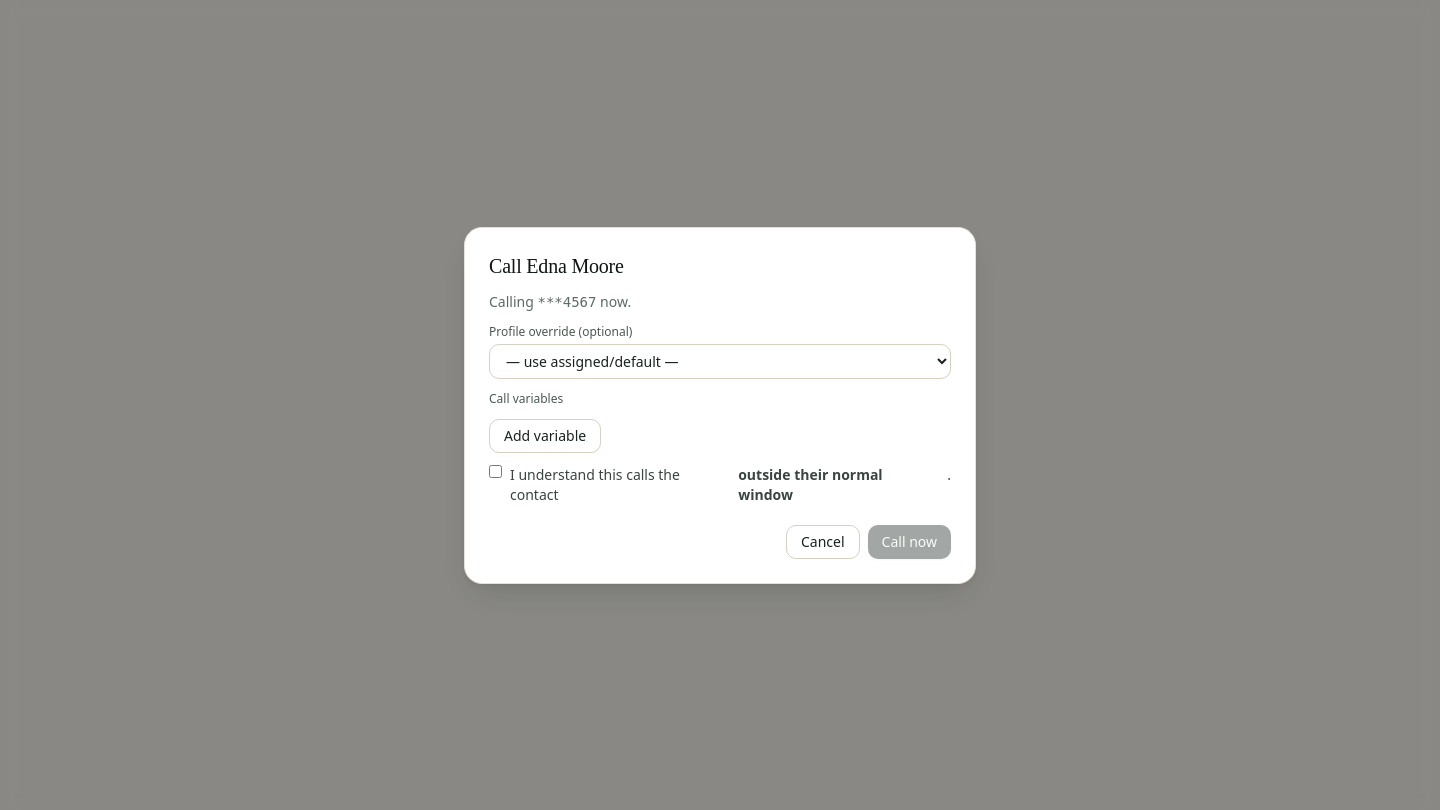
Scenario: CallNowDialog › surfaces a DNC-blocked result inline (not as an error)
Click the checkbox labelled "outside their normal window" at (496, 471), box [489,464,502,478]
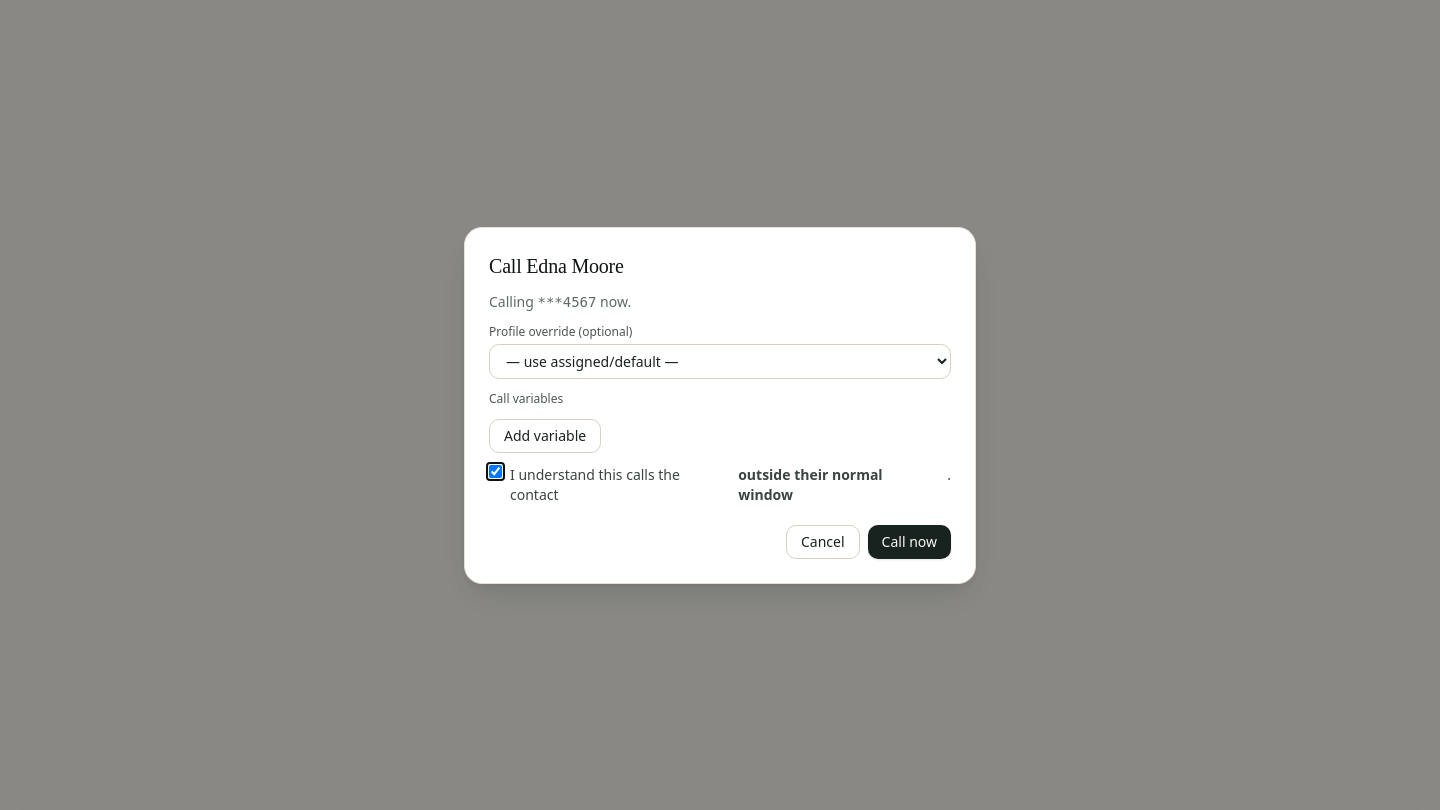
Click the button "Call now" at (909, 542), box [868,524,951,558]
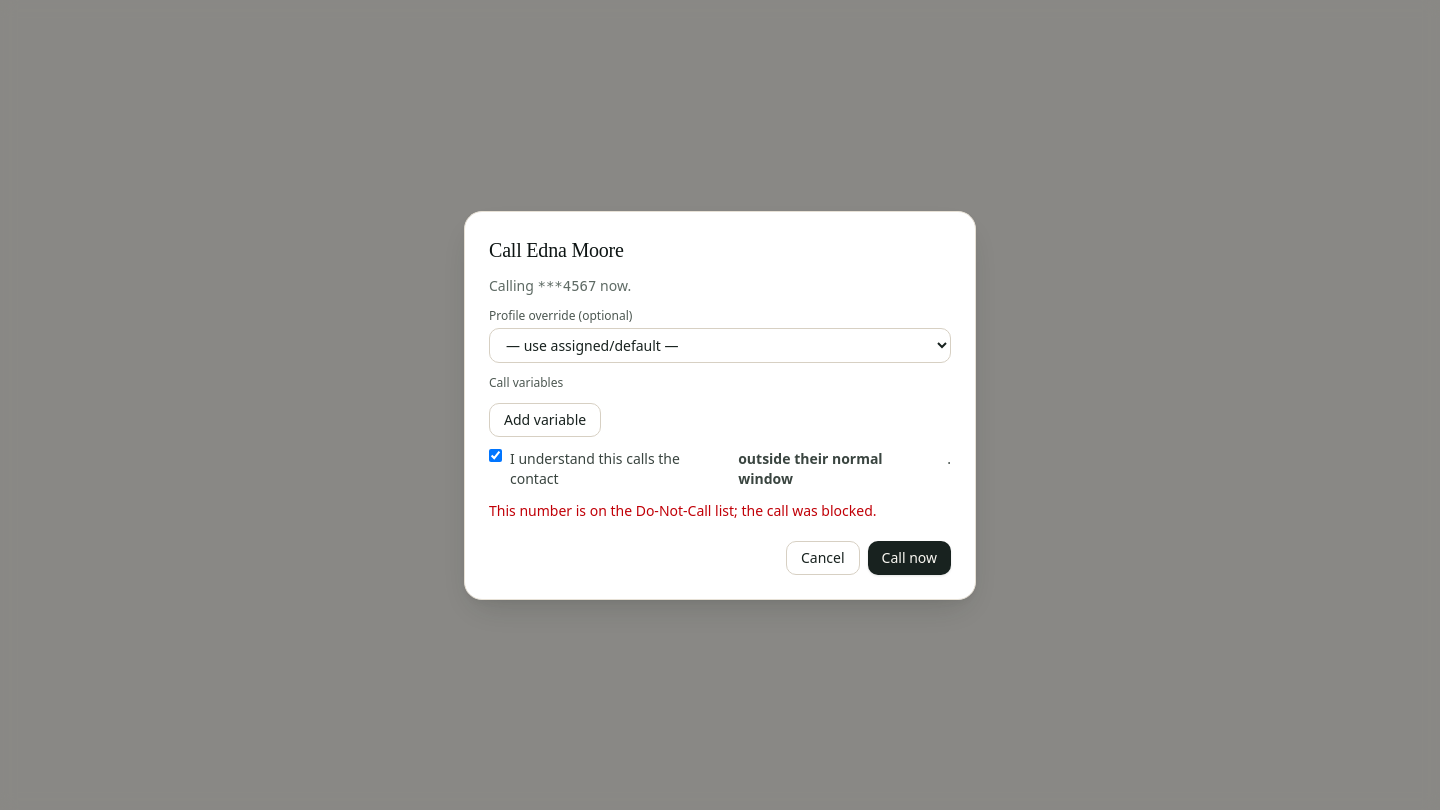
Expected: the text "Do-Not-Call list" is shown, [489,500,876,520]
